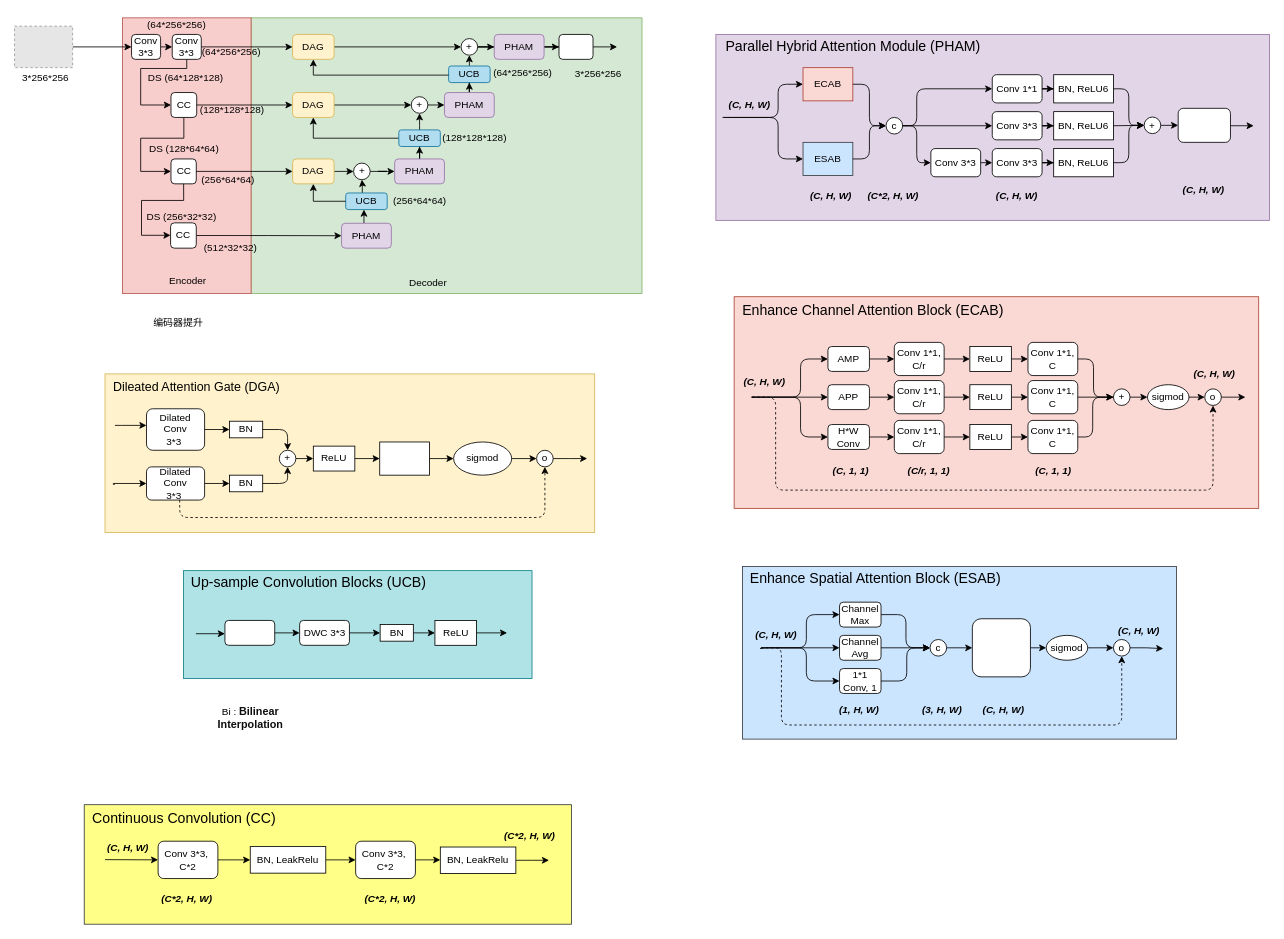
This 1284x939 diagram has some shape labels left out. Grey dashed boxes stand in for pictures. The shapes that lost their labels are listed below. From the top down, each one's centre as x and y in pixels, then its label:
At point (575, 46): "Conv 3*3, 3".
At point (1203, 124): "Channel Shuffle".
At point (404, 458): "Conv 1*1, BN".
At point (249, 632): "up 2x ( BI )".
At point (1001, 647): "Dilated conv 3*3, d=2, padding=2, C".
